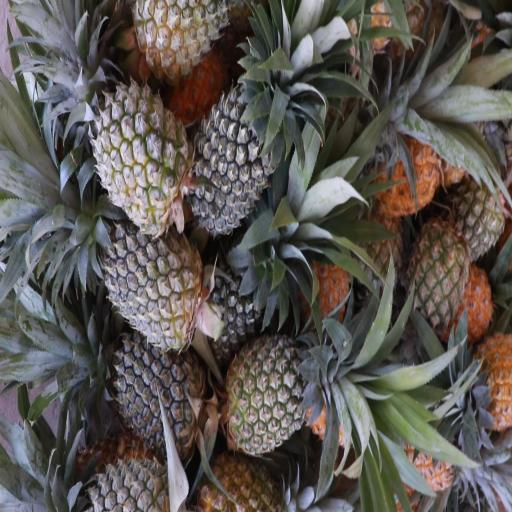------------------------------: (98, 80, 187, 232), (224, 336, 322, 455), (138, 0, 240, 77), (406, 224, 470, 328)
Pineapple - v8 v1: (378, 121, 444, 216), (466, 331, 511, 429)
